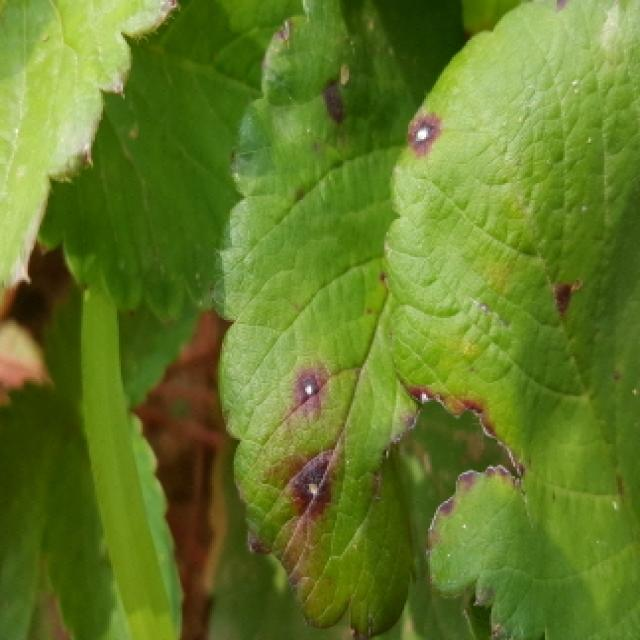Leaf Spot: (380, 0, 640, 640), (215, 0, 470, 640)
